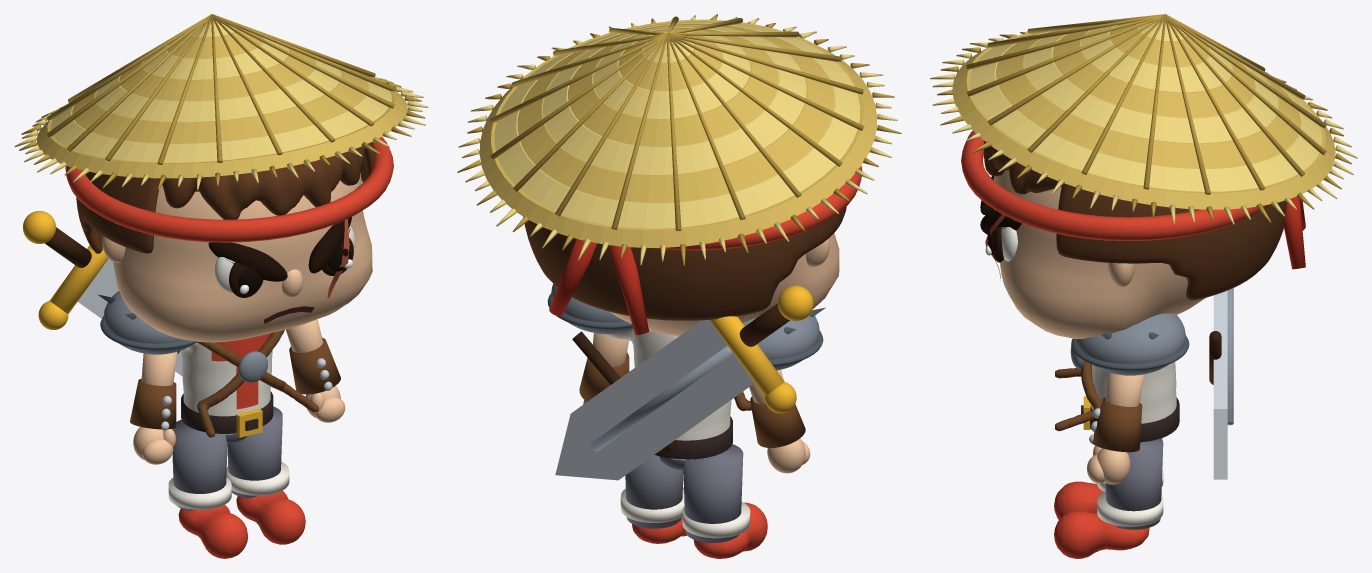
Rendered from iop-berserker-b.glb.
The picture shows the model from 3 angles, left to right: view 1: azimuth 30°, elevation 25°; view 2: azimuth 150°, elevation 25°; view 3: azimuth 270°, elevation 25°; orthographic projection. The views are drawn at different scales.
Visible parts, largest first — view 1: crane, bandeau, cone, meches, cone_bord, cone.001, cone.002, cone.003, cheveux, jambe, tunique, jambe.001 (+40 smaller); view 2: cheveux, lame, cone, cone.001, cone_bord, cone.002, cone.003, cone.004, jambe, crane, jambe.001, cone.005 (+37 smaller); view 3: crane, cheveux, cone, cone.001, cone_bord, bandeau, cone.002, cone.003, epauliere.002, cone.004, jambe.001, botte.001 (+29 smaller).
Part boxes in pixels (<box>): crane: <box>112,172,372,342</box>; bandeau: <box>65,137,393,242</box>; cone: <box>50,69,391,162</box>; meches: <box>162,146,364,219</box>; cone_bord: <box>37,77,407,178</box>; cone.001: <box>72,70,367,143</box>; cone.002: <box>95,59,341,122</box>; cone.003: <box>119,48,315,100</box>; cheveux: <box>76,142,375,253</box>; jambe: <box>172,419,227,510</box>; tunique: <box>181,342,272,434</box>; jambe.001: <box>227,406,282,498</box>; cheveux: <box>523,206,846,320</box>; lame: <box>555,320,754,480</box>; cone: <box>494,21,860,228</box>; cone.001: <box>517,23,834,202</box>; cone_bord: <box>479,19,877,247</box>; cone.002: <box>542,25,806,174</box>; cone.003: <box>568,28,778,146</box>; cone.004: <box>593,30,750,118</box>; jambe: <box>683,444,743,542</box>; crane: <box>610,233,839,335</box>; jambe.001: <box>625,455,683,528</box>; cone.005: <box>618,32,722,90</box>; crane: <box>993,170,1205,338</box>; cheveux: <box>1056,183,1286,300</box>; cone: <box>970,30,1322,191</box>; cone.001: <box>995,27,1301,168</box>; cone_bord: <box>952,33,1335,209</box>; bandeau: <box>961,130,1269,241</box>; cone.002: <box>1024,26,1278,143</box>; cone.003: <box>1052,29,1255,117</box>; epauliere.002: <box>1075,313,1185,375</box>; cone.004: <box>1081,25,1232,92</box>; jambe.001: <box>1105,438,1163,529</box>; botte.001: <box>1054,511,1149,558</box>.
Size of the model in its own units: 2.5 by 3.35 by 2.46.
